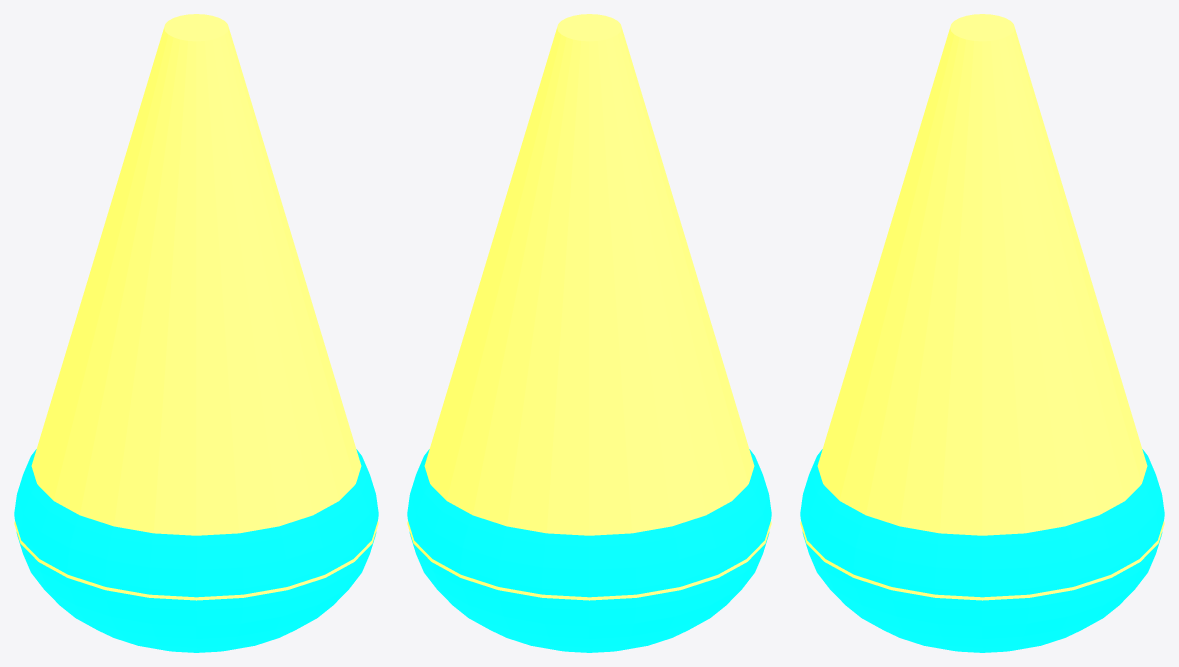
The model's file is flame_lunar.glb.
3 renders of one model, left to right at view 1: azimuth 30°, elevation 25°; view 2: azimuth 150°, elevation 25°; view 3: azimuth 270°, elevation 25°, orthographic.
Parts seen in each view (by area): view 1: Flame_Lunar_Elongated_Plume, Flame_Lunar_Base_Anchor; view 2: Flame_Lunar_Elongated_Plume, Flame_Lunar_Base_Anchor; view 3: Flame_Lunar_Elongated_Plume, Flame_Lunar_Base_Anchor.
Boxes of the visible parts, left/top/right/bottom form: Flame_Lunar_Elongated_Plume: left=14, top=14, right=378, bottom=600; Flame_Lunar_Base_Anchor: left=14, top=449, right=378, bottom=652; Flame_Lunar_Elongated_Plume: left=407, top=14, right=771, bottom=600; Flame_Lunar_Base_Anchor: left=407, top=449, right=771, bottom=652; Flame_Lunar_Elongated_Plume: left=800, top=14, right=1164, bottom=600; Flame_Lunar_Base_Anchor: left=800, top=449, right=1164, bottom=652.
Size of the model in its own units: 0.9 by 1.64 by 0.9.
